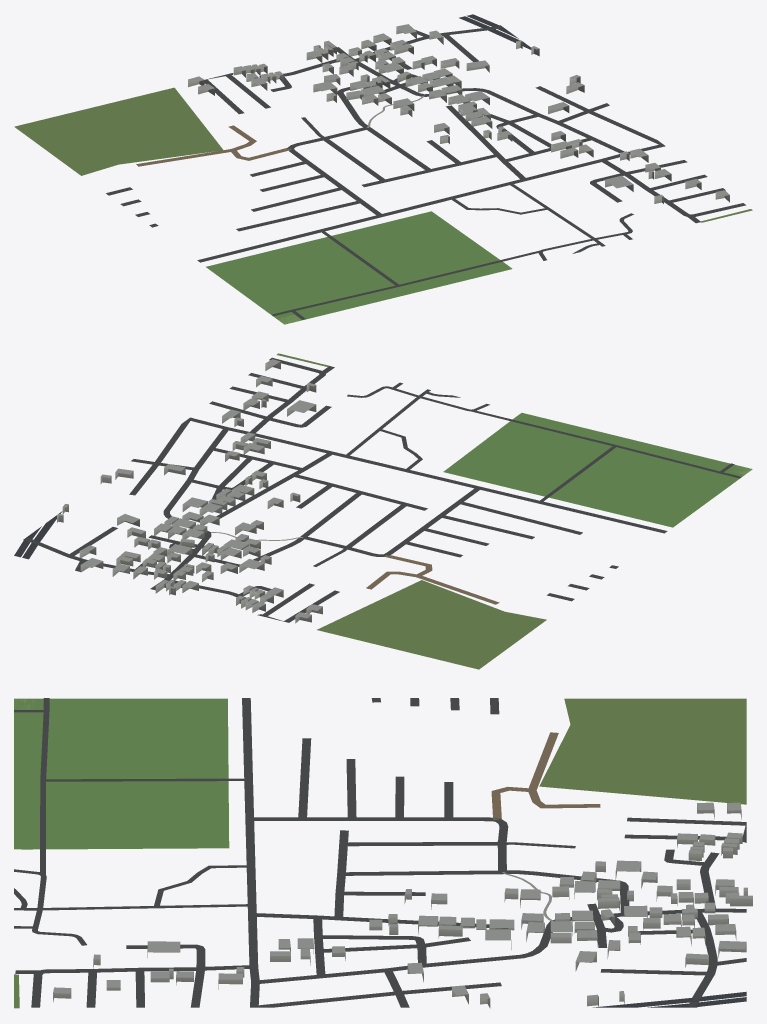
3 views of the same model, one above another, from view 1: azimuth 30°, elevation 25°; view 2: azimuth 150°, elevation 25°; view 3: azimuth 270°, elevation 25° (orthographic). The views are drawn at different scales.
Visible parts, largest first — view 1: ground, building; view 2: ground, building; view 3: ground, building.
Boxes of the visible parts, x1=… form: ground: x1=14, y1=14, x2=752, y2=324; building: x1=188, y1=24, x2=729, y2=203; ground: x1=14, y1=353, x2=752, y2=669; building: x1=57, y1=359, x2=322, y2=623; ground: x1=14, y1=698, x2=746, y2=1008; building: x1=53, y1=802, x2=752, y2=1008.
Bounding box in the file's own units: 501 × 8 × 504.
